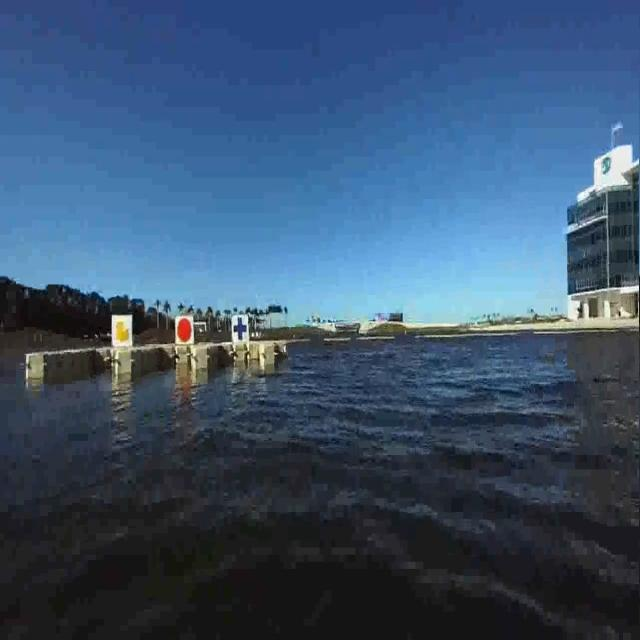blue-cross: (230, 312, 250, 347)
red-dot: (176, 312, 197, 347)
yellow-duck: (118, 321, 132, 345)
